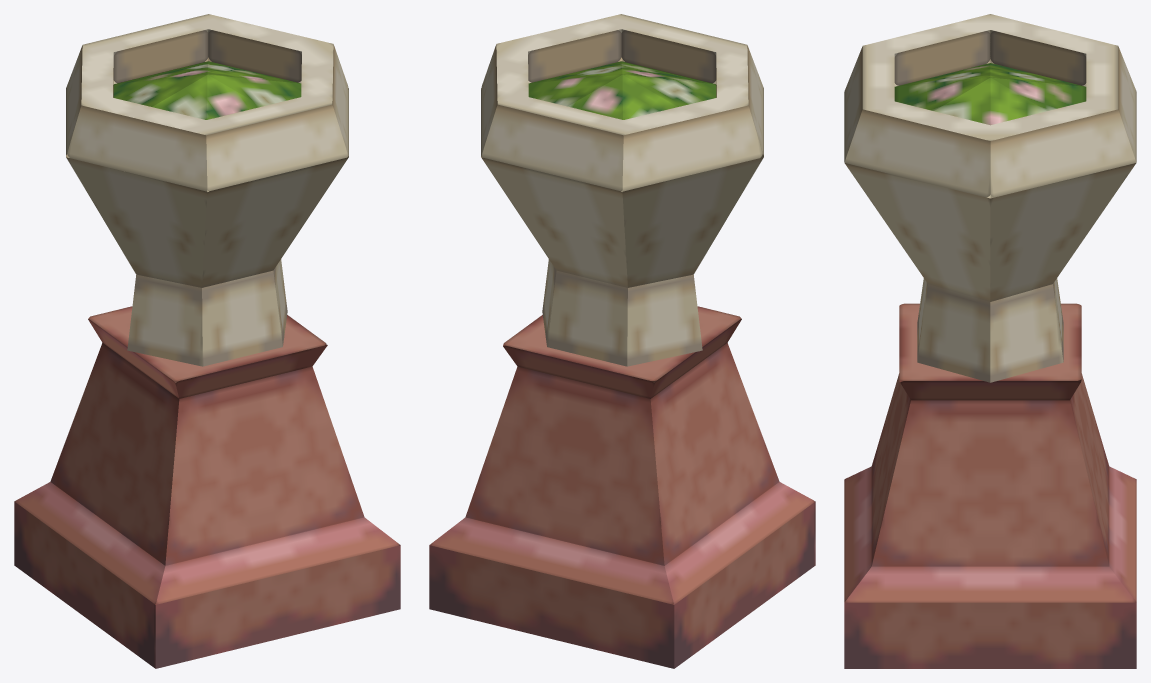
Rendered from vase.obj.
The picture shows the model from 3 angles, left to right: view 1: azimuth 30°, elevation 25°; view 2: azimuth 150°, elevation 25°; view 3: azimuth 270°, elevation 25°; orthographic projection. The views are drawn at different scales.
Parts seen in each view (by area): view 1: cuboid, cylinder; view 2: cuboid, cylinder; view 3: cuboid, cylinder.
Boxes of the visible parts, box(x1,y1,x2,y2) form: cuboid: box(14, 306, 400, 668); cylinder: box(66, 14, 348, 366); cuboid: box(429, 306, 815, 668); cylinder: box(481, 14, 763, 366); cuboid: box(844, 303, 1136, 668); cylinder: box(844, 14, 1136, 382).
Size of the model in its own units: 1.15 by 2 by 1.
Materials: 1 (1 with a texture image).
